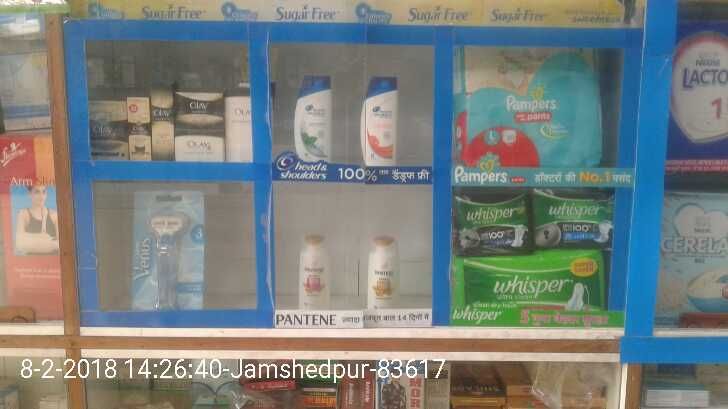venus: (134, 188, 204, 311)
